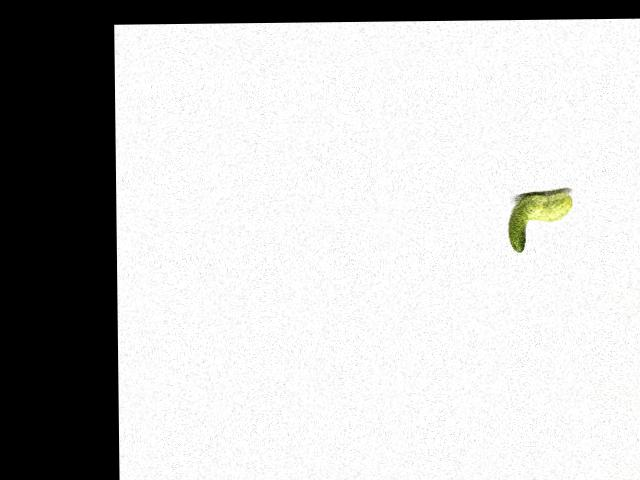cucumber: (507, 191, 572, 252)
